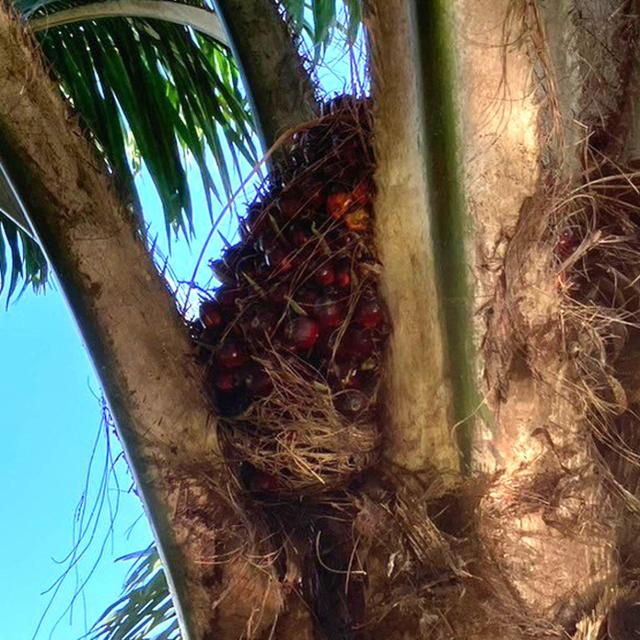ripe: (202, 101, 386, 447)
